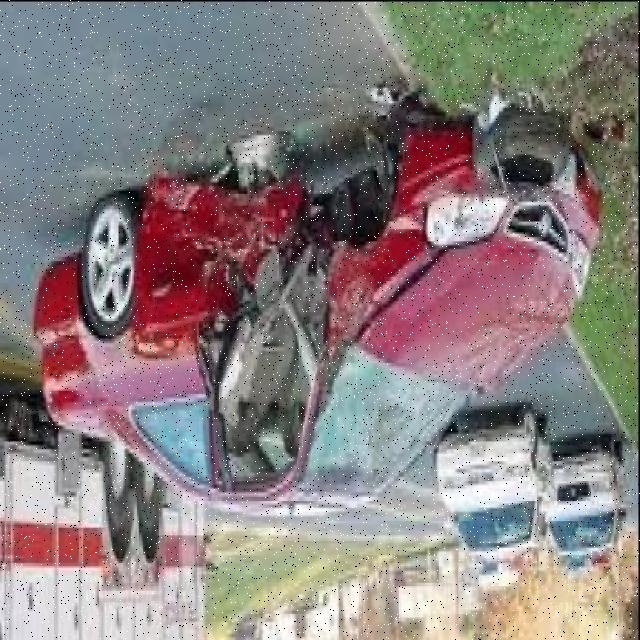damage: (141, 116, 447, 494)
